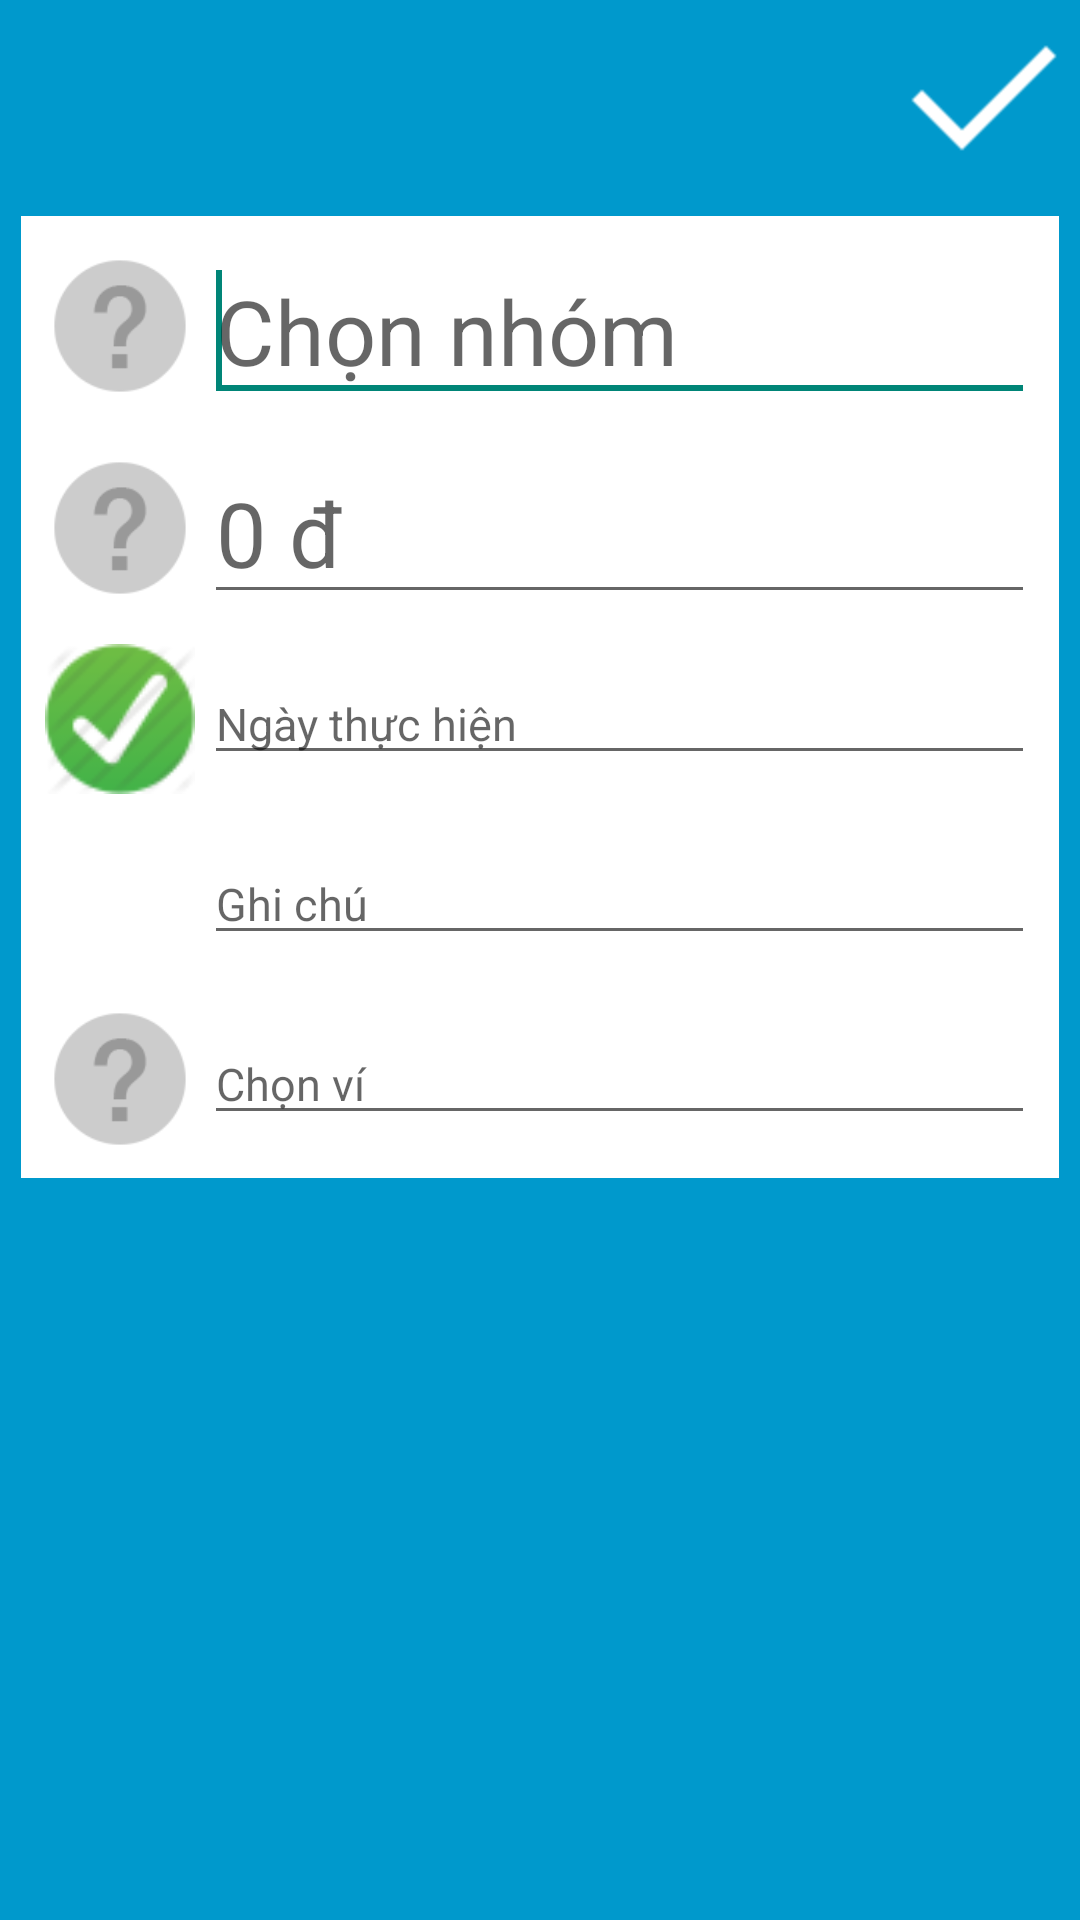

Icon bounding boxes for this 1080px x 1920px phone screenshot, format (x1, y1, x2, y2):
Hoàn tất: (911, 45, 1057, 151)
khonganh: (54, 1013, 186, 1145)
